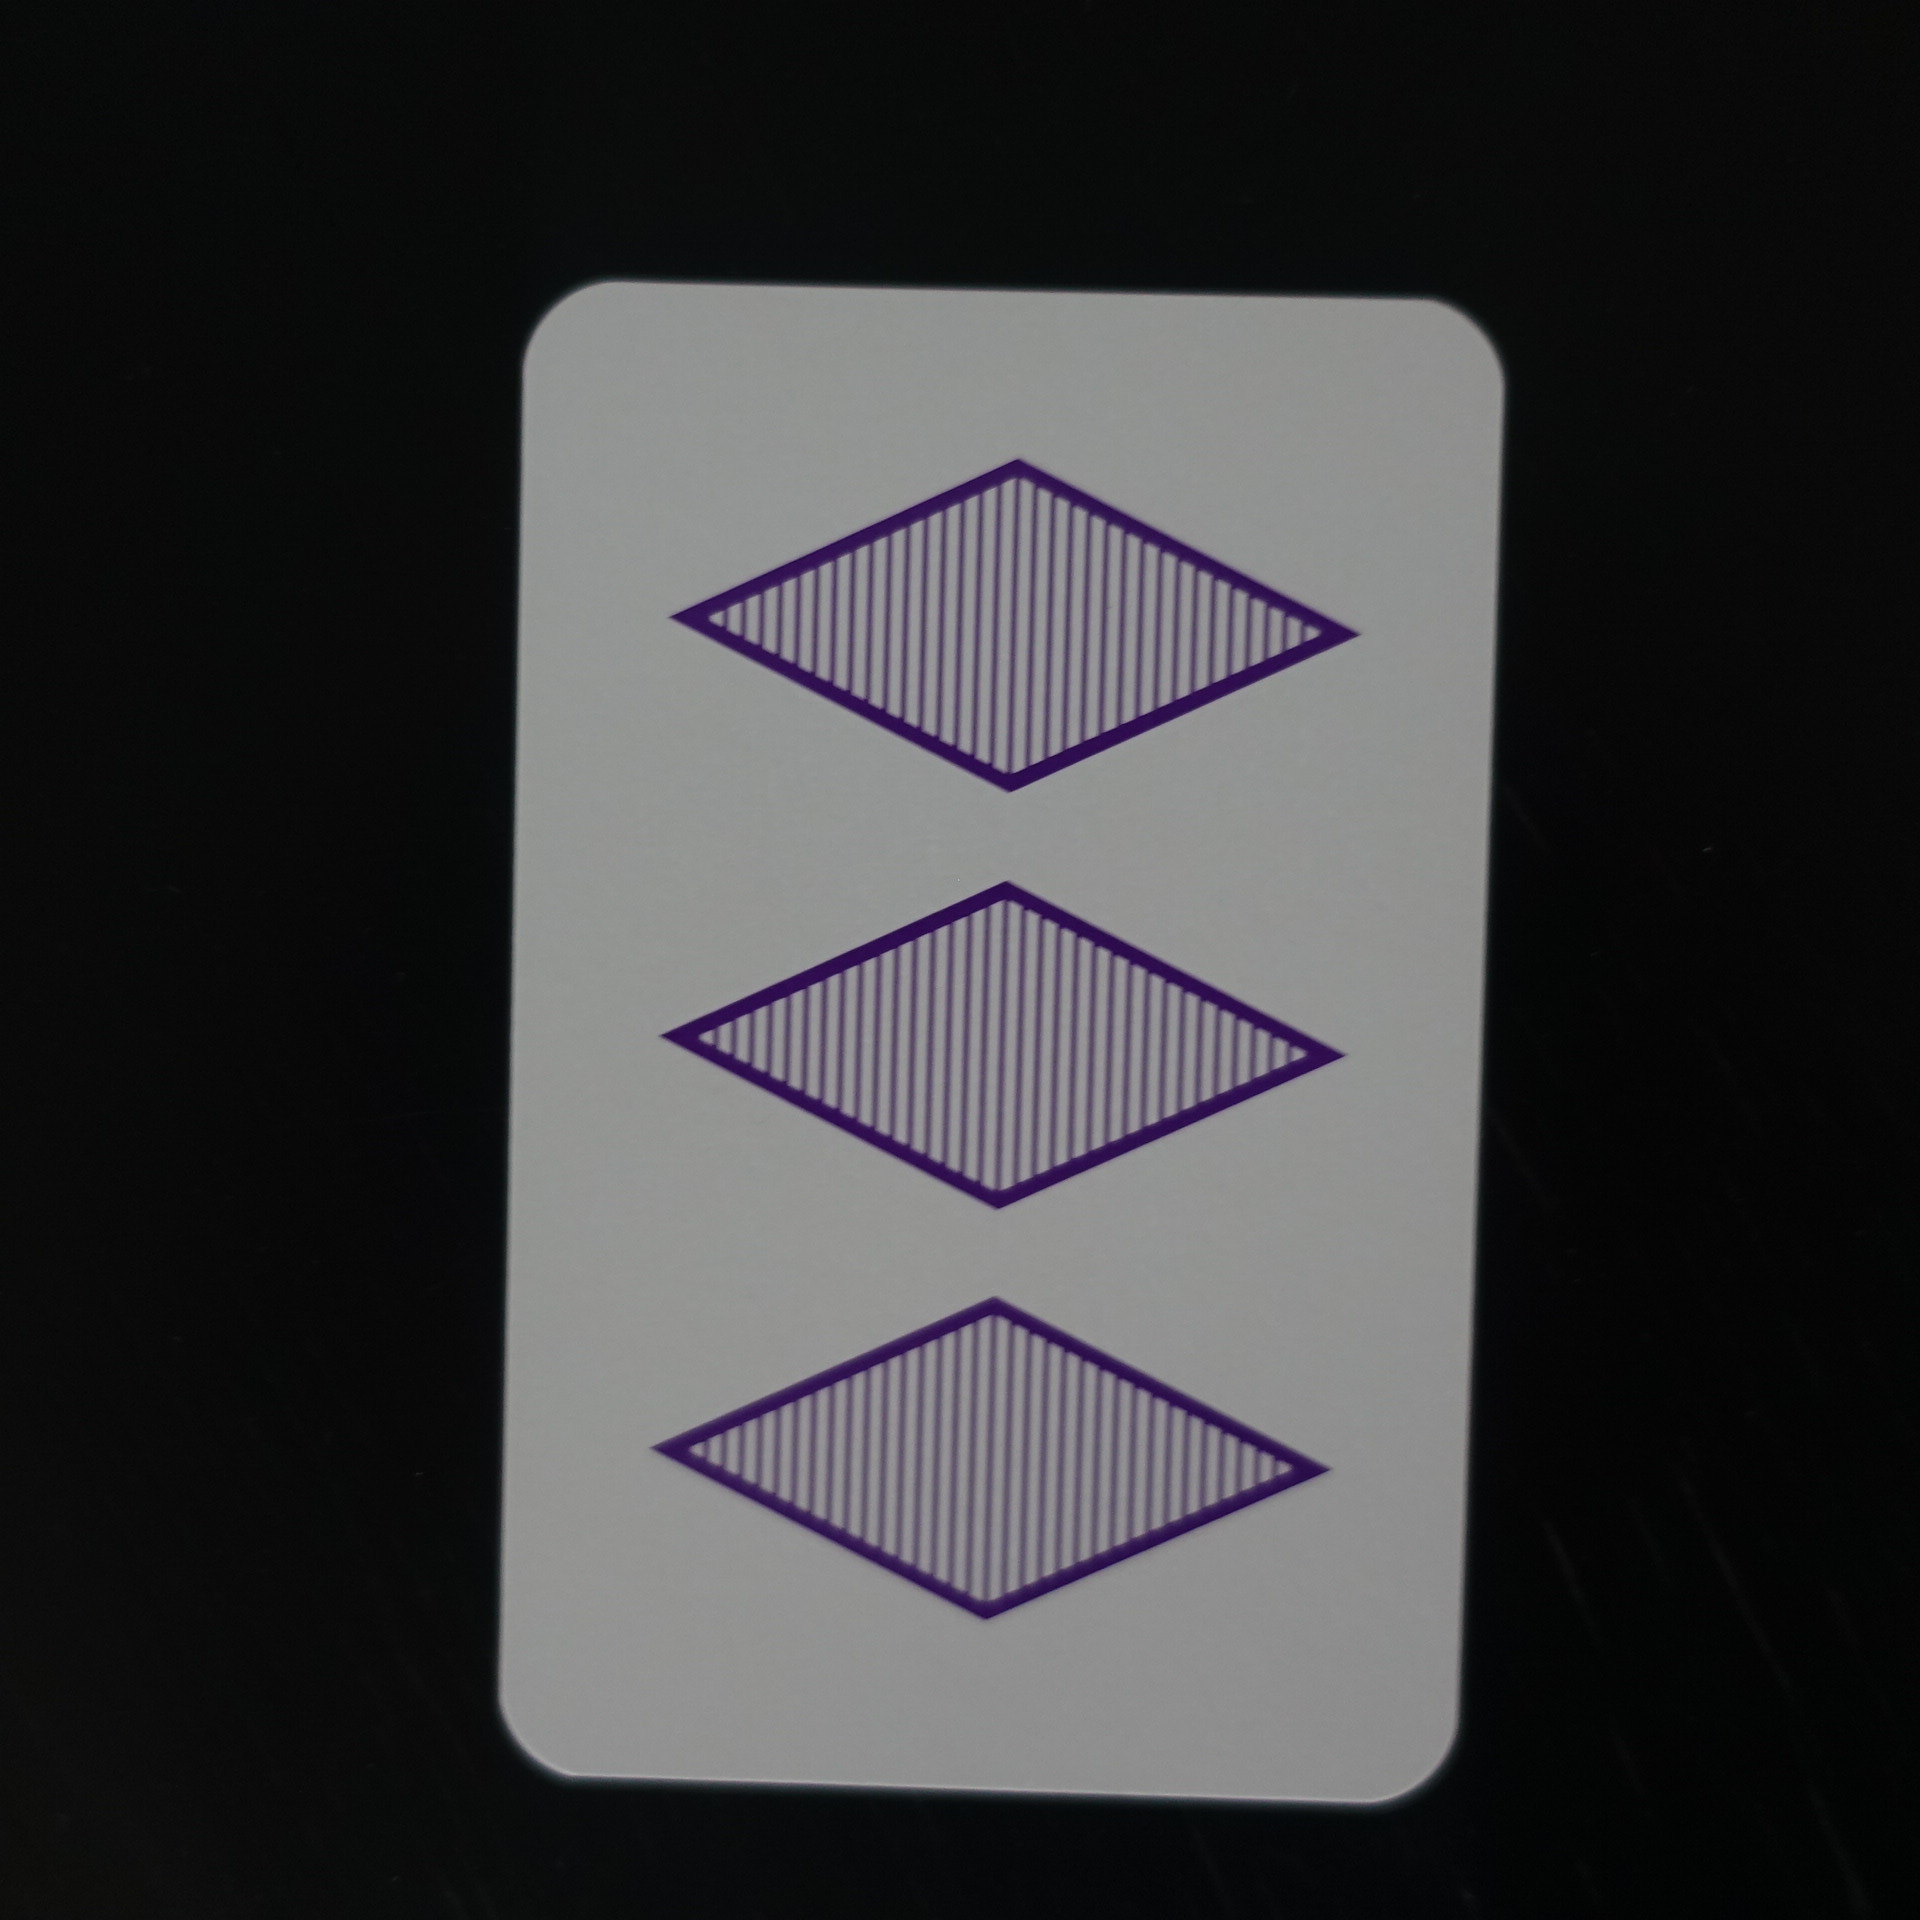c-2-h-o-r: (471, 253, 1526, 1823)
